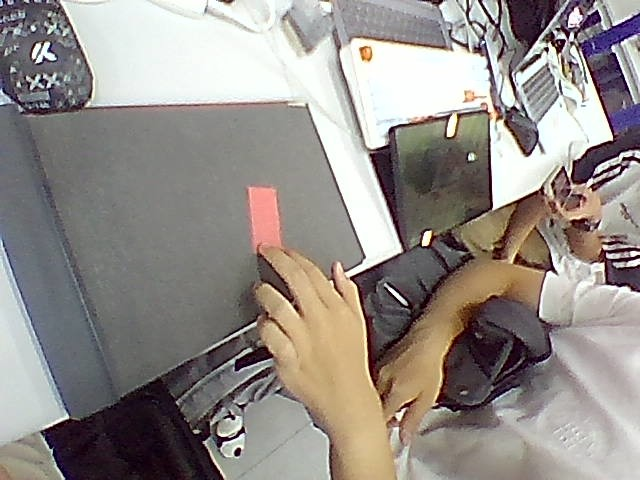card: (247, 186, 280, 250)
